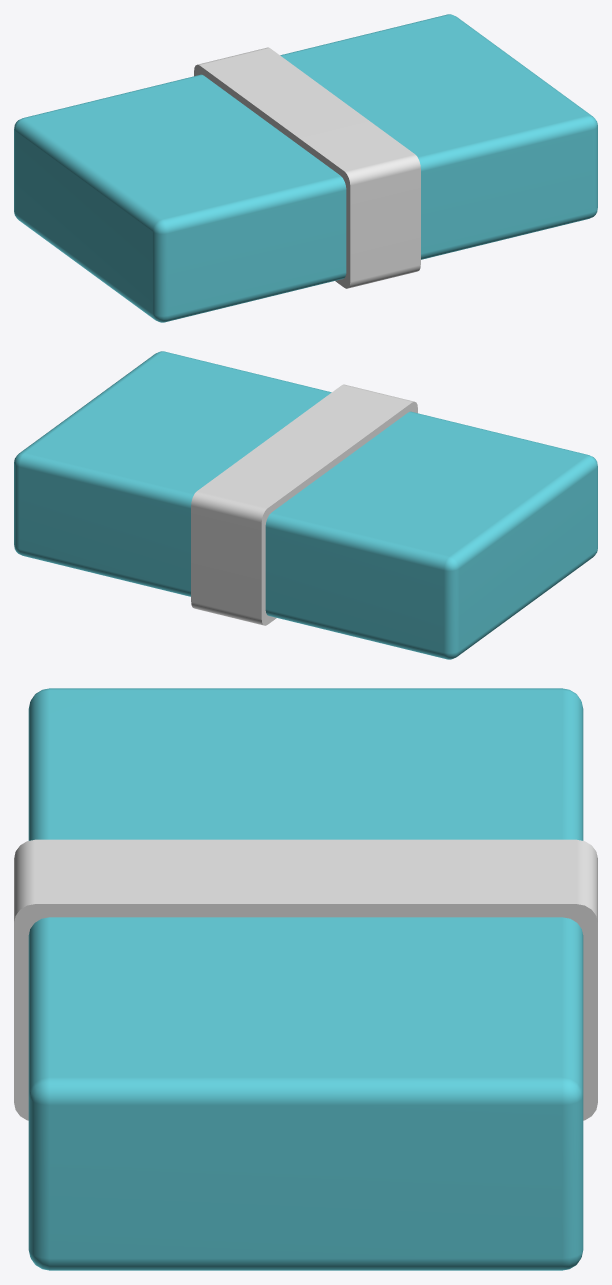
Rendered from Tile5.fbx.
3 views of the same model, one above another, from view 1: azimuth 30°, elevation 25°; view 2: azimuth 150°, elevation 25°; view 3: azimuth 270°, elevation 25° (orthographic). The views are drawn at different scales.
Visible parts, largest first — view 1: m5; view 2: m5; view 3: m5.
Boxes of the visible parts, x1,y1,x2,y2 form: m5: (14, 14, 597, 322); m5: (14, 351, 597, 659); m5: (14, 688, 597, 1270).
Size of the model in its own units: 13.16 by 3.3 by 8.03.
